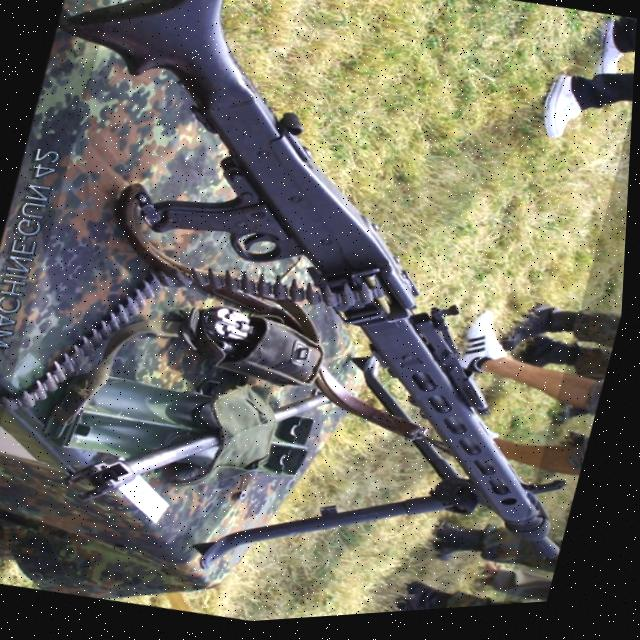firearm: (0, 0, 640, 597)
